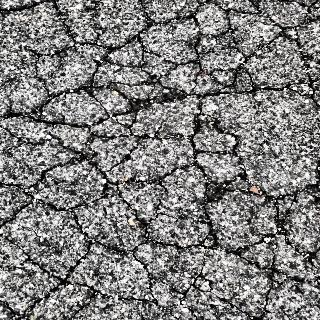alligator-crack: (4, 4, 316, 316)
